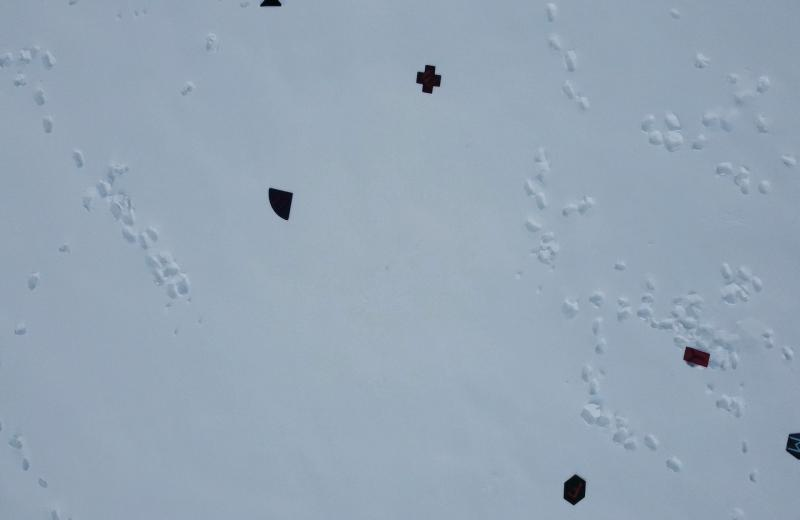Cross: (415, 64, 442, 100)
Hexagon: (560, 472, 588, 506)
Pentagon: (773, 424, 800, 468)
Quarter Circle: (264, 182, 296, 230)
Rectangle: (1, 1, 800, 520), (682, 340, 712, 376)
